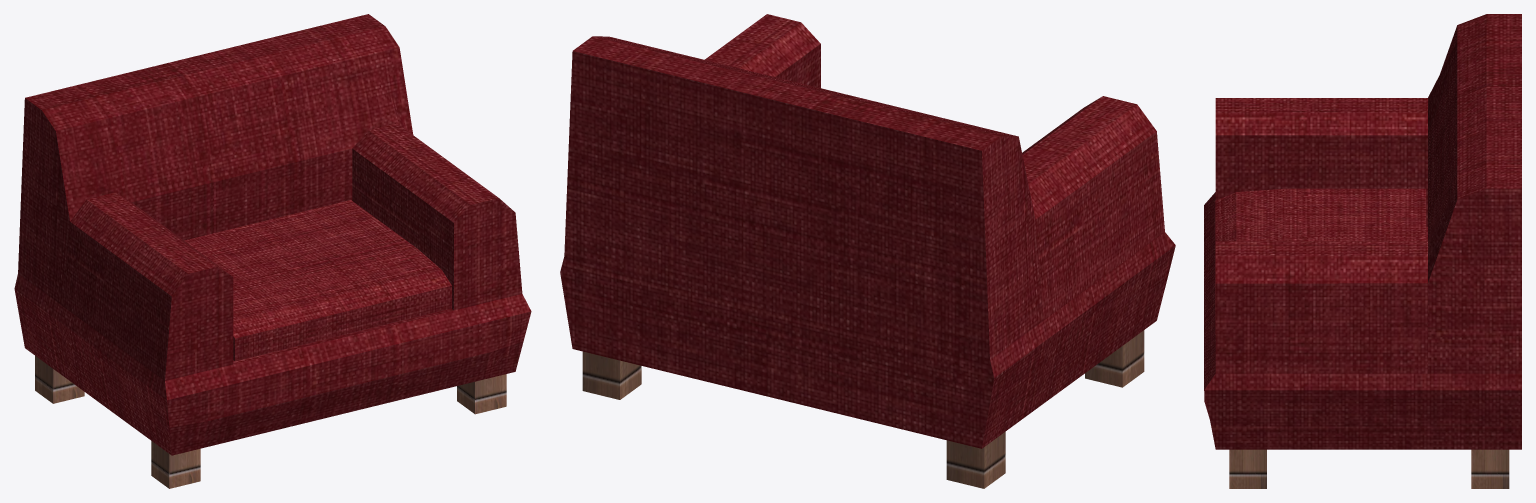
File: Rework_sofaS.fbx
3 renders of one model, left to right at view 1: azimuth 30°, elevation 25°; view 2: azimuth 150°, elevation 25°; view 3: azimuth 270°, elevation 25°, orthographic. The views are drawn at different scales.
Visible parts, largest first — view 1: Base_sofa.001, Asiento_sofa.001, Patas_sofa.005; view 2: Base_sofa.001, Patas_sofa.005; view 3: Base_sofa.001, Asiento_sofa.001, Patas_sofa.005.
Part boxes in pixels (x1,y1,x2,y2): Base_sofa.001: (14, 14, 531, 455); Asiento_sofa.001: (184, 200, 451, 361); Patas_sofa.005: (35, 356, 506, 488); Base_sofa.001: (560, 14, 1175, 448); Patas_sofa.005: (582, 330, 1144, 488); Base_sofa.001: (1204, 14, 1521, 449); Asiento_sofa.001: (1215, 188, 1426, 334); Patas_sofa.005: (1229, 449, 1509, 488).
Bounding box in the file's own units: 3.24 × 2.34 × 2.45.
